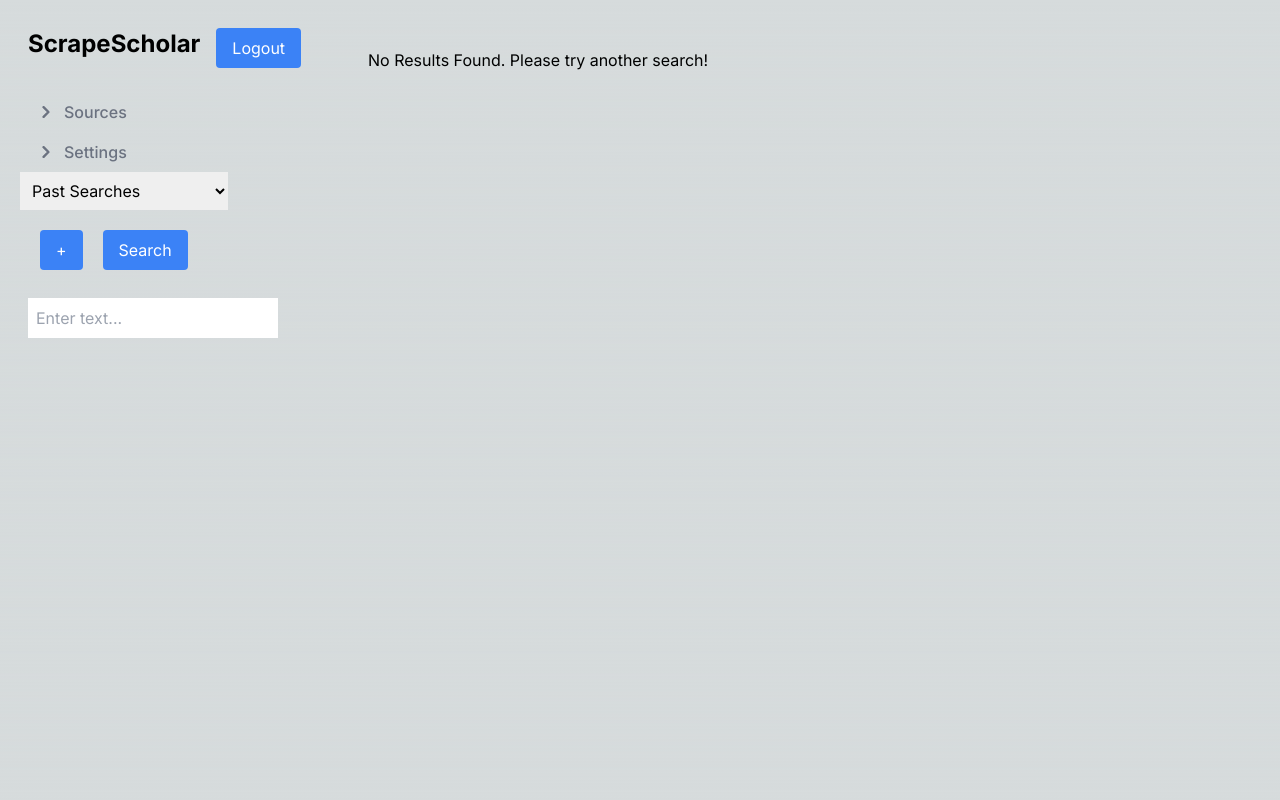
Test: SearchView US-17 Component › US-20 Settings Accordion Expands and shows API Keys, enter bad API key scopus
Click the button "Settings" at (89, 152), box [32,132,147,172]
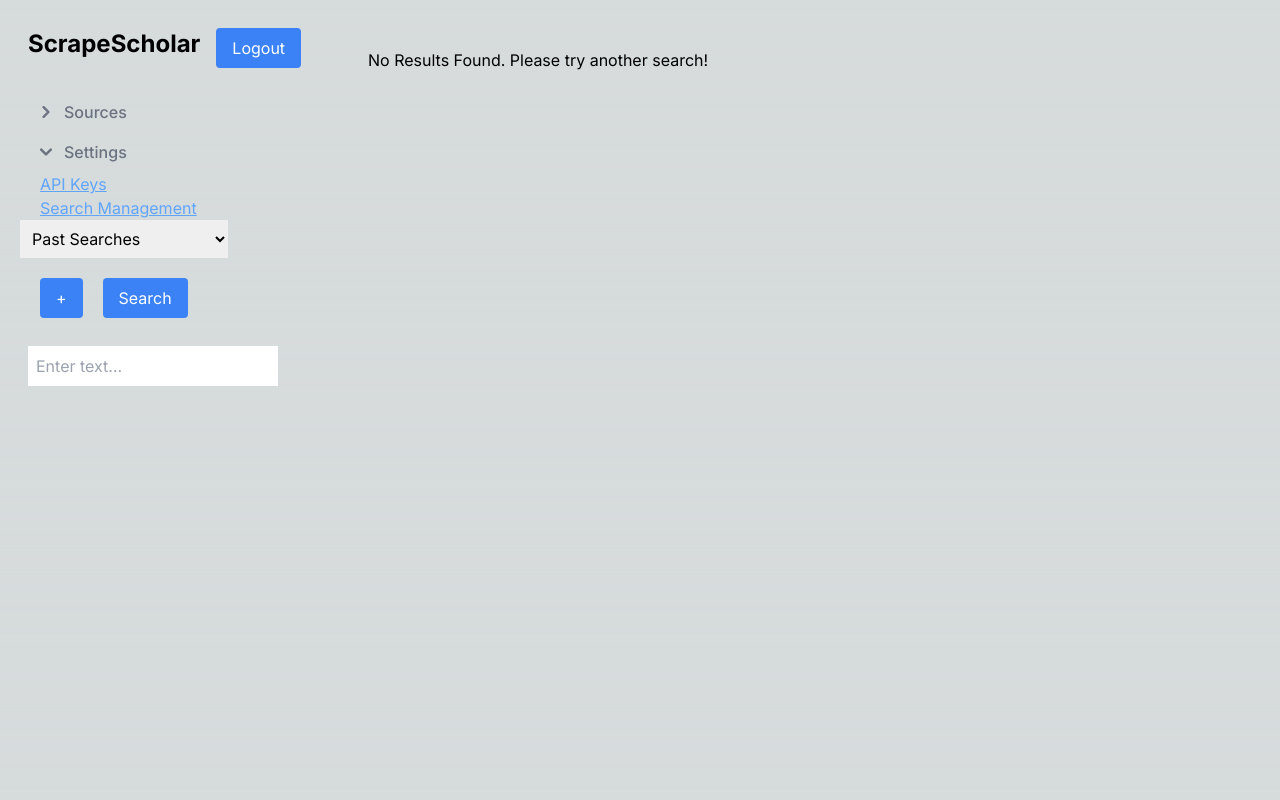
Result: the link "API Keys" is shown
Click the link "API Keys" at (73, 184), box [40,174,107,194]
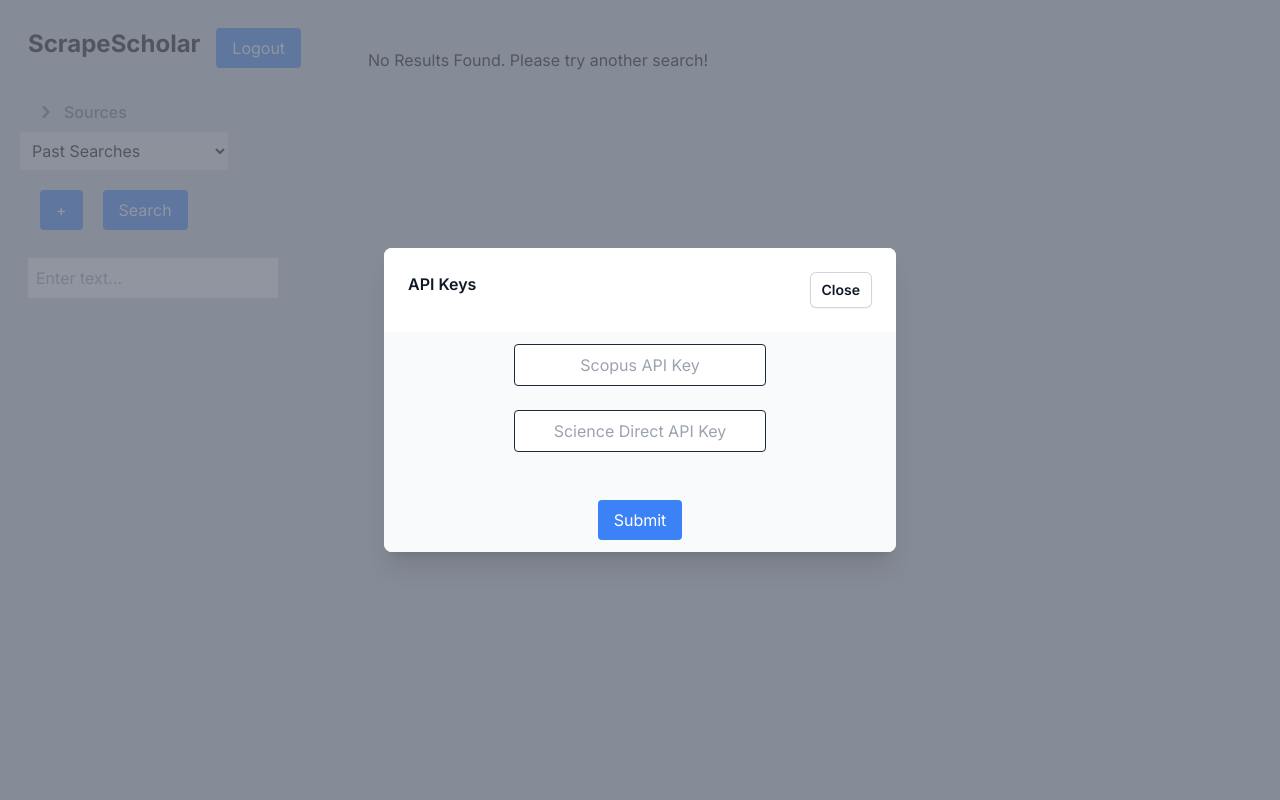
Result: the field with test id "scopus-api-input" is shown
Result: the field with test id "sciencedirect-api-input" is shown at [514,410,766,452]
Result: the button "Submit" is shown at [598,500,682,540]
Type "bad_api_key" into the field with test id "scopus-api-input" at (640, 365), box [514,344,766,386]
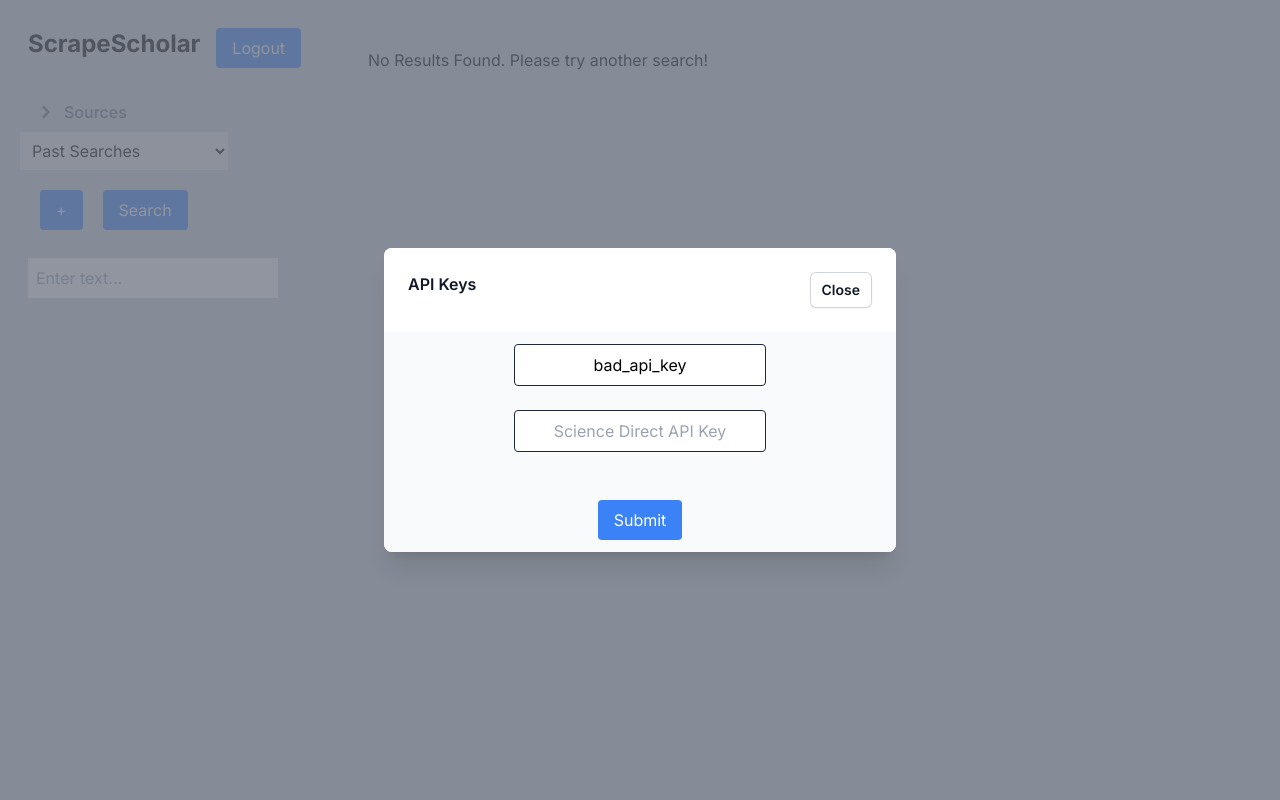
Click the button "Submit" at (640, 520), box [598,500,682,540]
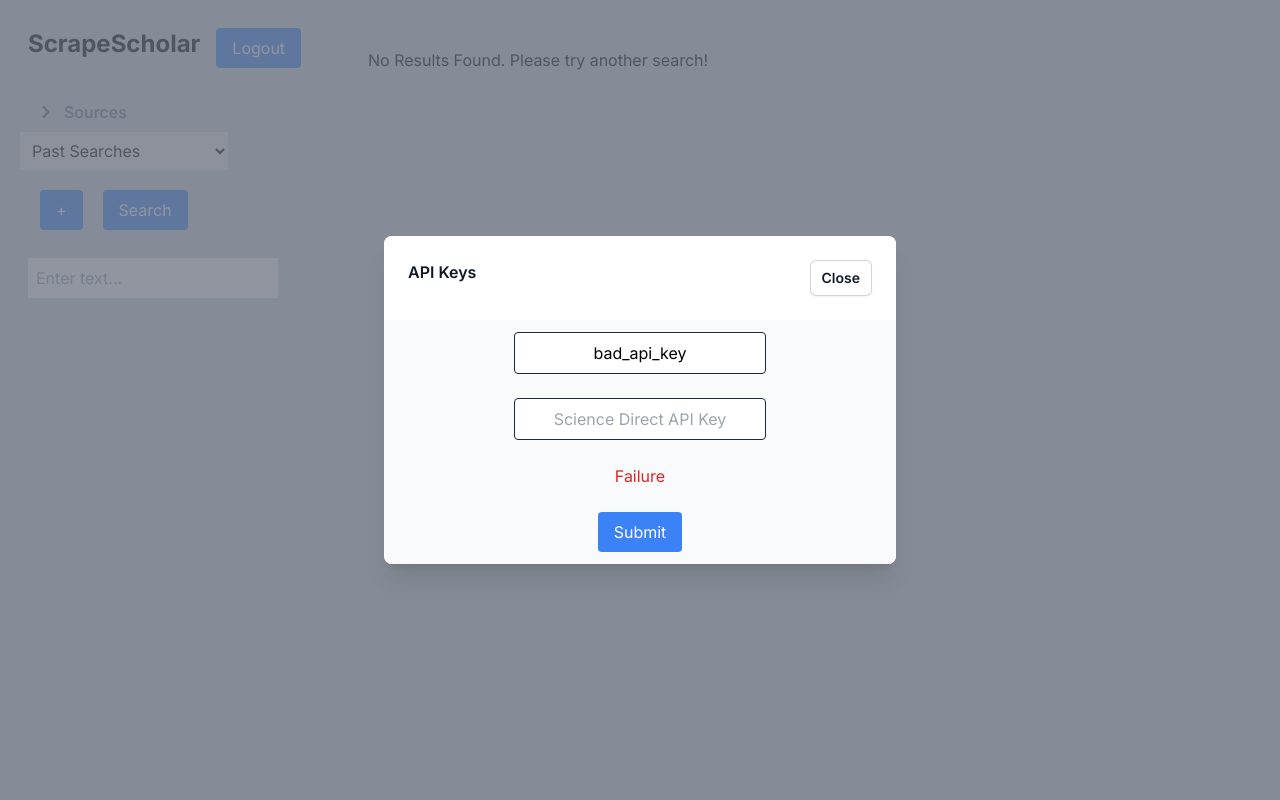
Result: the text "Failure" is shown at [615,464,665,488]
